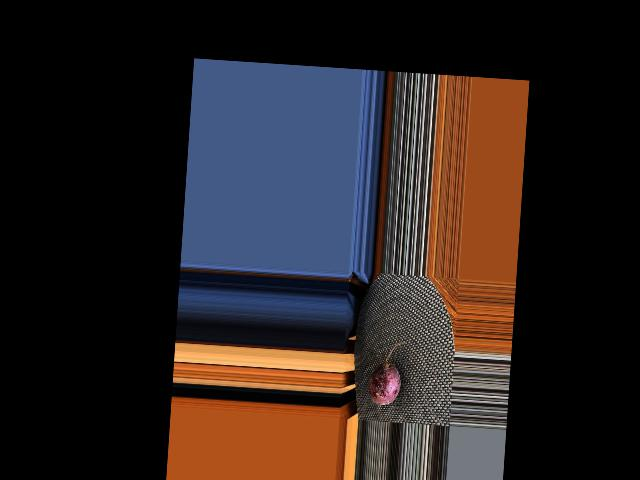beet: (367, 339, 407, 406)
